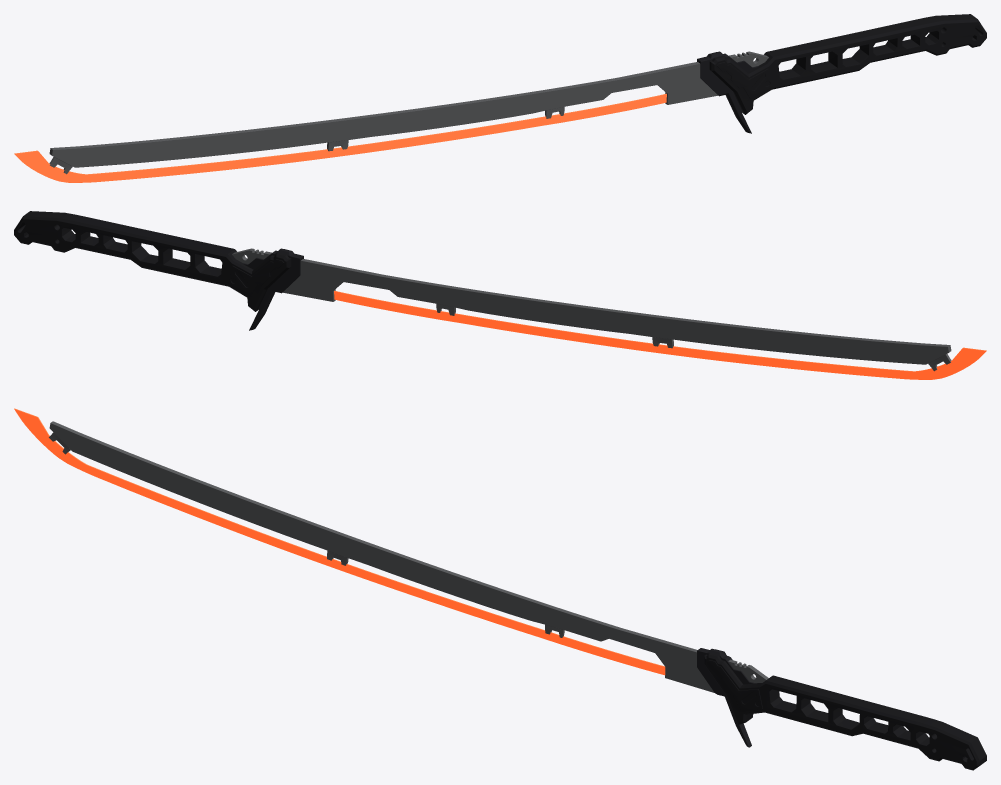
Rendered from dao.fbx.
3 renders of one model, top to bottom at view 1: azimuth 30°, elevation 25°; view 2: azimuth 150°, elevation 25°; view 3: azimuth 330°, elevation 25°, orthographic.
Visible parts, largest first — view 1: Plane.006, Plane, Cube.001, Cube; view 2: Plane.006, Plane, Cube.001, Cube; view 3: Plane.006, Plane, Cube.001, Cube.
Boxes of the visible parts, x1,y1,x2,y2 form: Plane.006: (49,51,768,174); Plane: (707,14,986,114); Cube.001: (14,93,666,182); Cube: (697,51,758,133); Plane.006: (232,248,951,371); Plane: (14,211,293,311); Cube.001: (334,290,986,379); Cube: (242,248,303,330); Plane.006: (49,421,768,692); Plane: (704,649,986,770); Cube.001: (14,408,665,675); Cube: (697,648,755,747).
Size of the model in its own units: 359 by 56.18 by 6.4.
